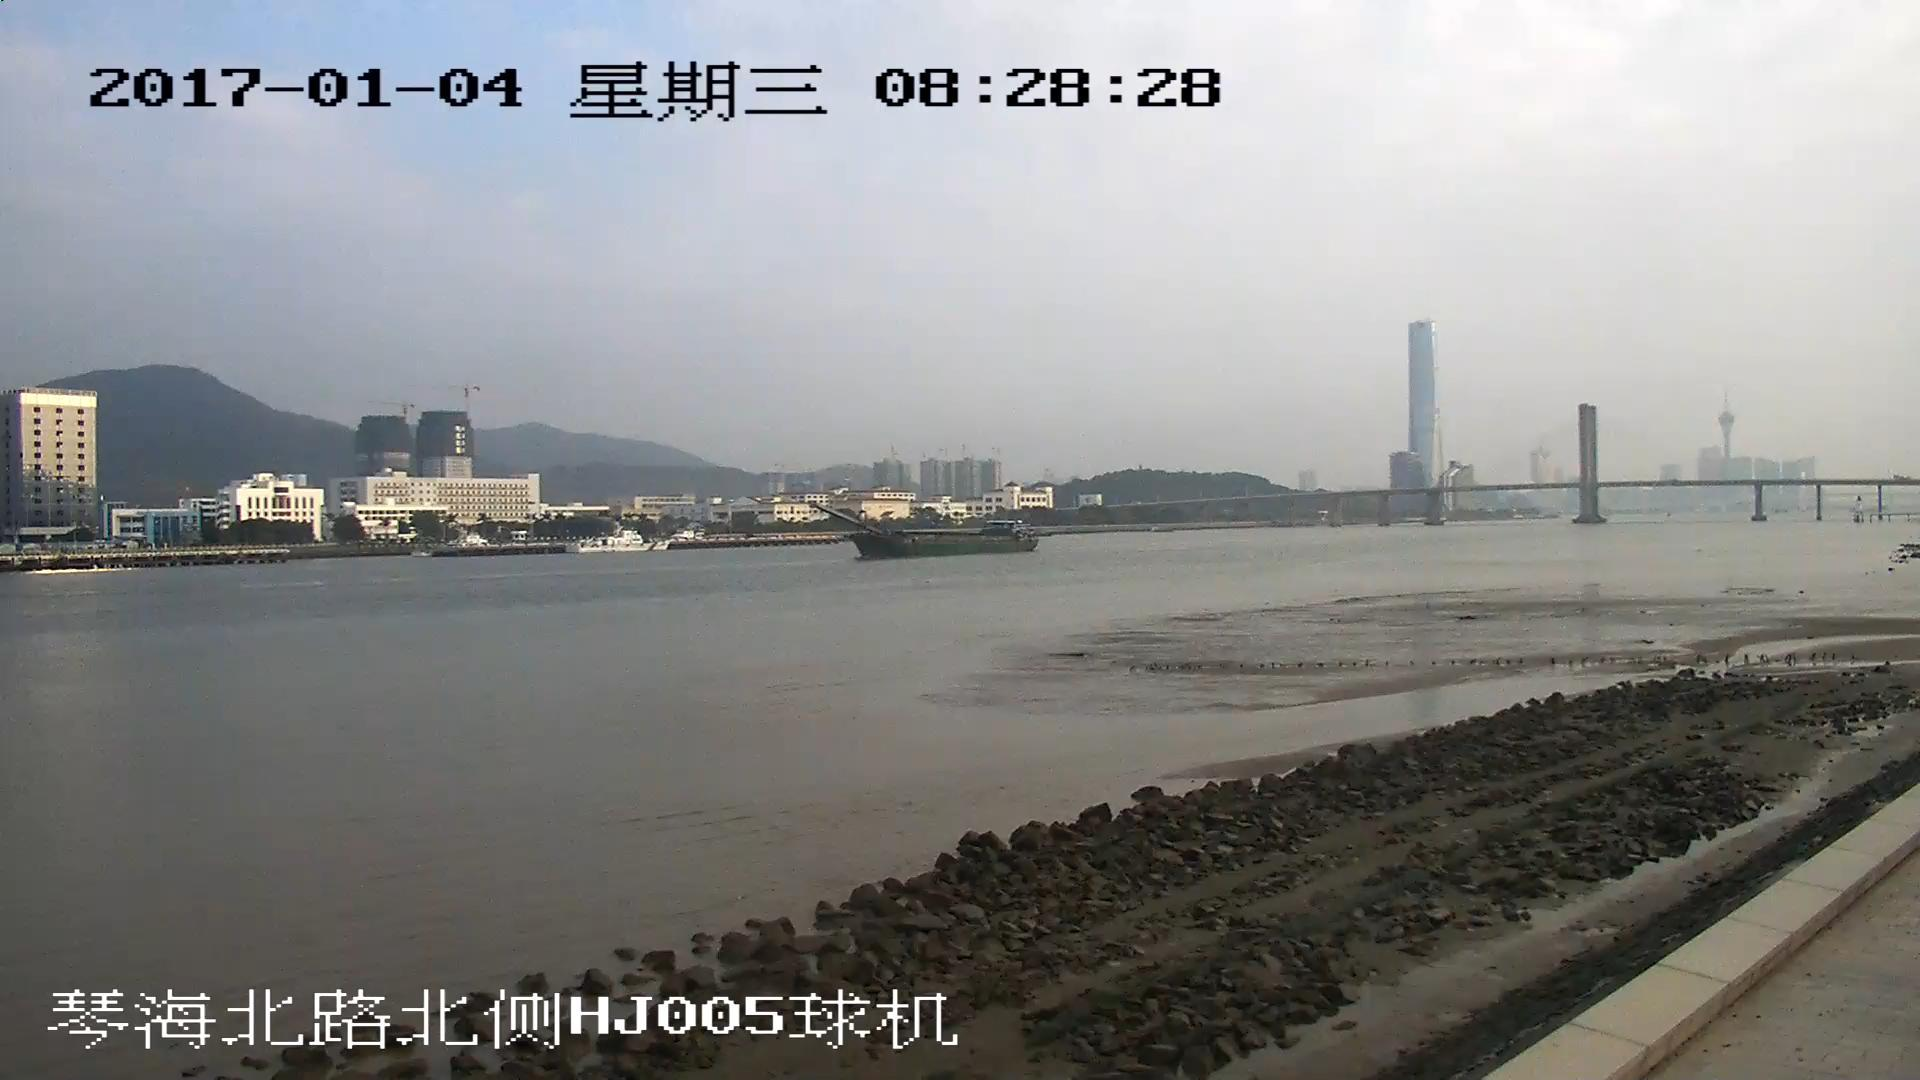Ship: (814, 506, 1035, 556)
